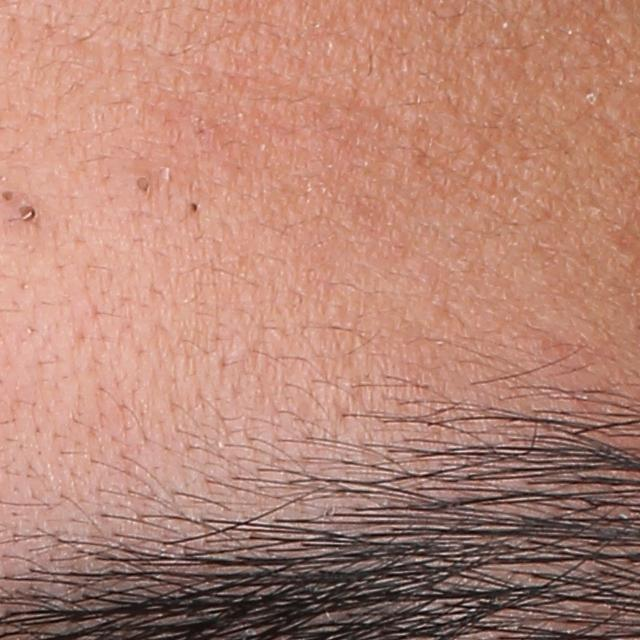comedo: (19, 203, 38, 224), (188, 198, 205, 218)
